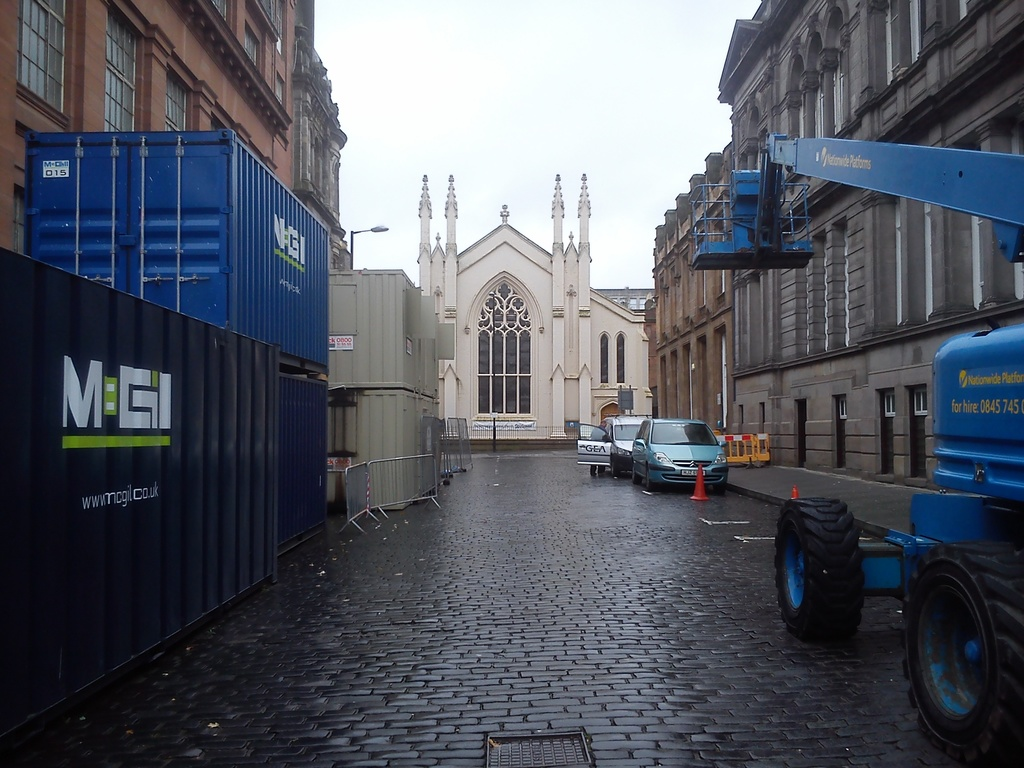Car: (630, 420, 728, 495), (577, 415, 657, 478)
